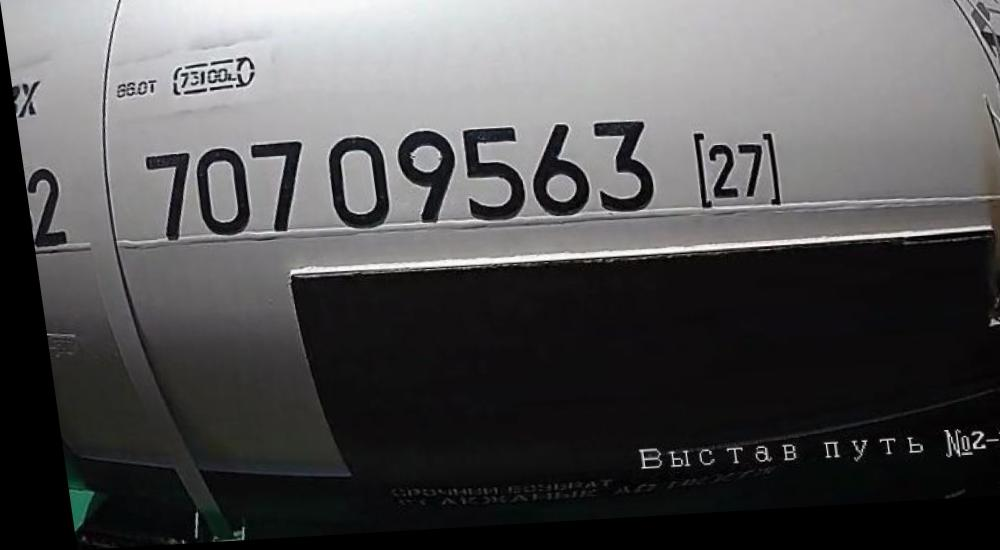Wagon-number: (133, 121, 655, 244)
